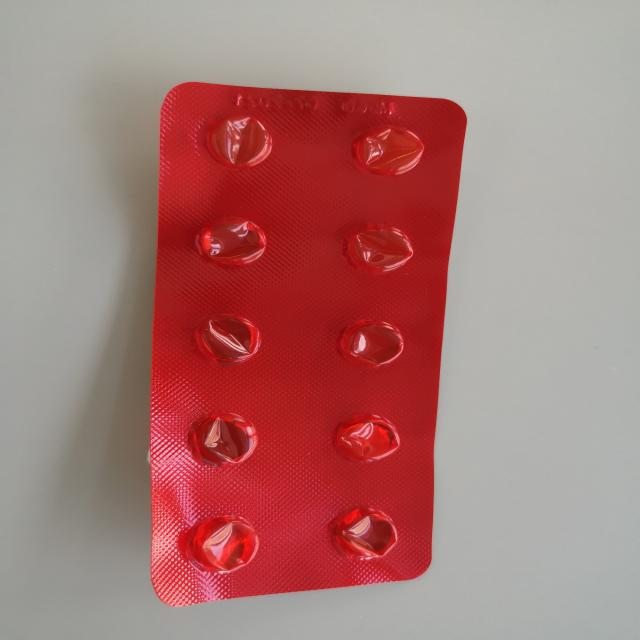Empty: (183, 306, 271, 371), (342, 213, 426, 281), (187, 210, 280, 268), (178, 513, 262, 577), (179, 407, 260, 472), (196, 108, 280, 168), (355, 121, 432, 179), (325, 506, 402, 564), (331, 311, 407, 368), (331, 412, 402, 469)
